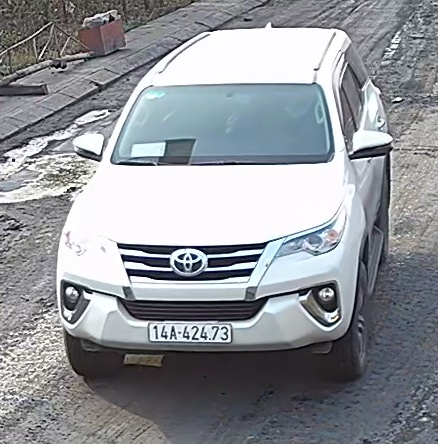vehicle plate: (142, 315, 235, 345)
